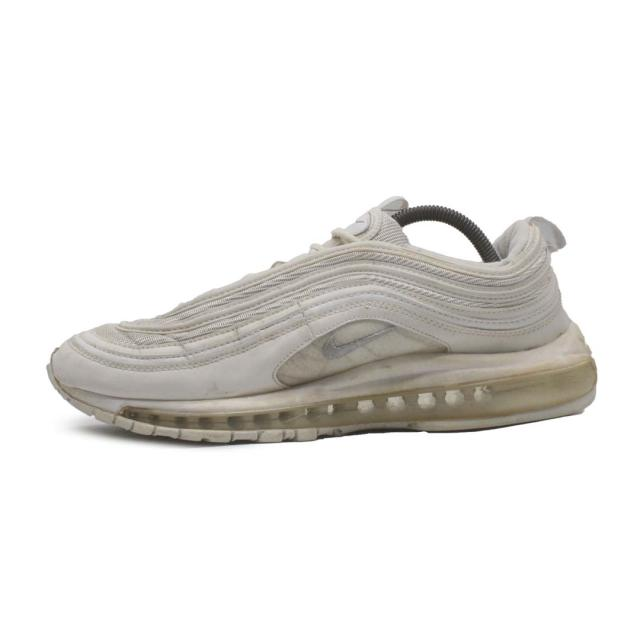heel: (507, 216, 573, 349)
midsole: (48, 321, 598, 442)
uppersole: (50, 196, 519, 399)
